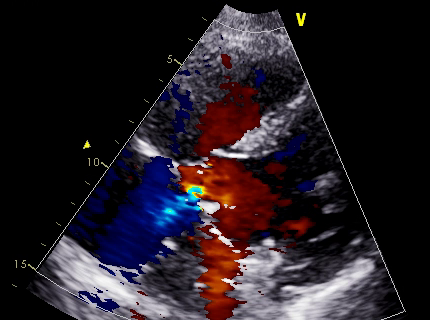TR: (148, 141, 210, 212)
